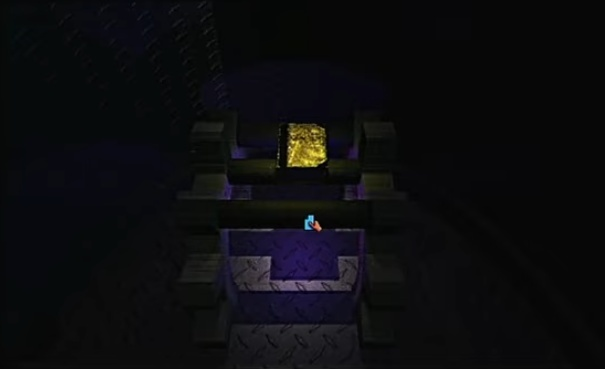Keep: (299, 212, 326, 237)
